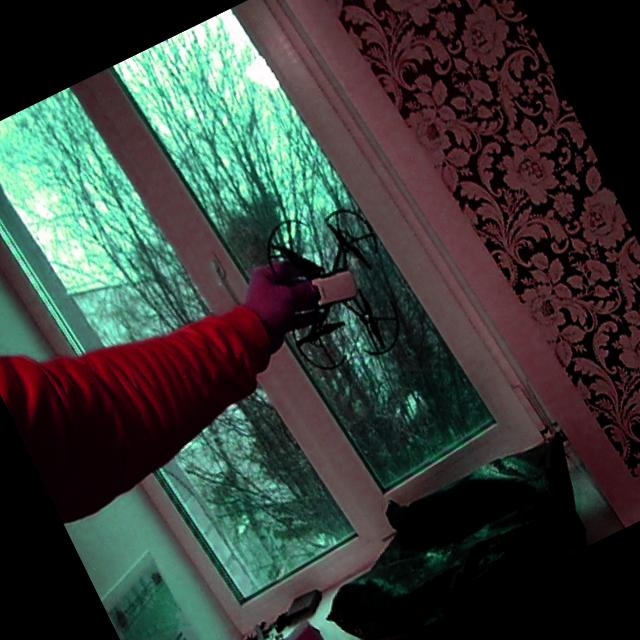drone: (233, 172, 427, 394)
